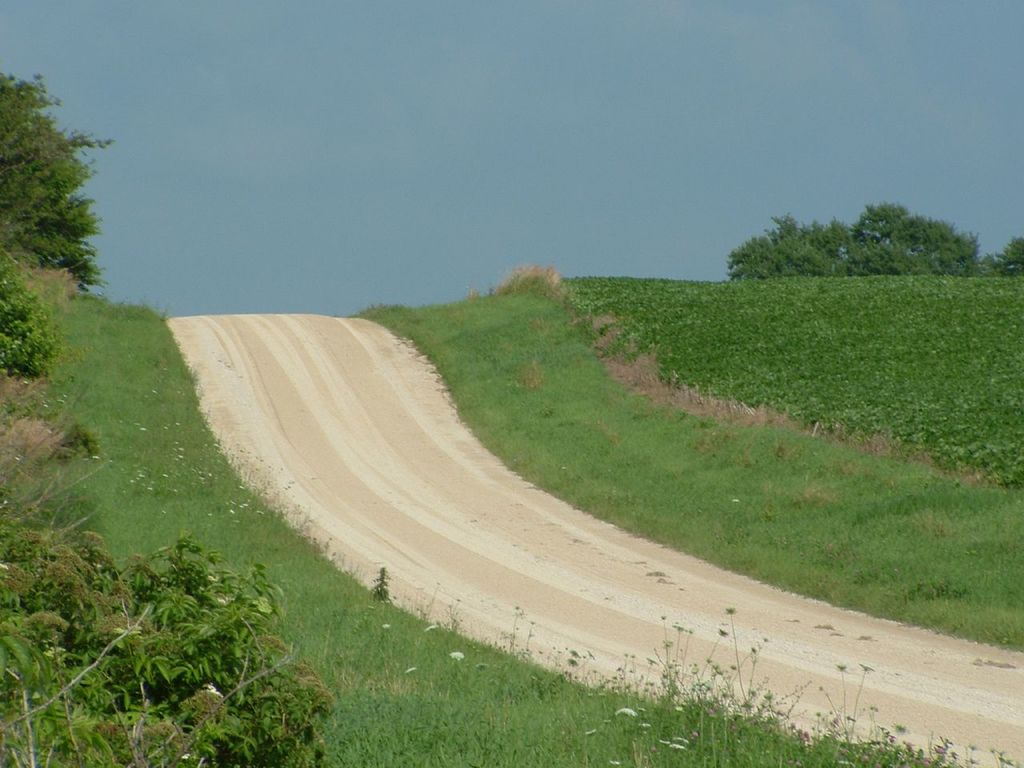Tree: (0, 69, 114, 387), (724, 199, 1024, 281)
